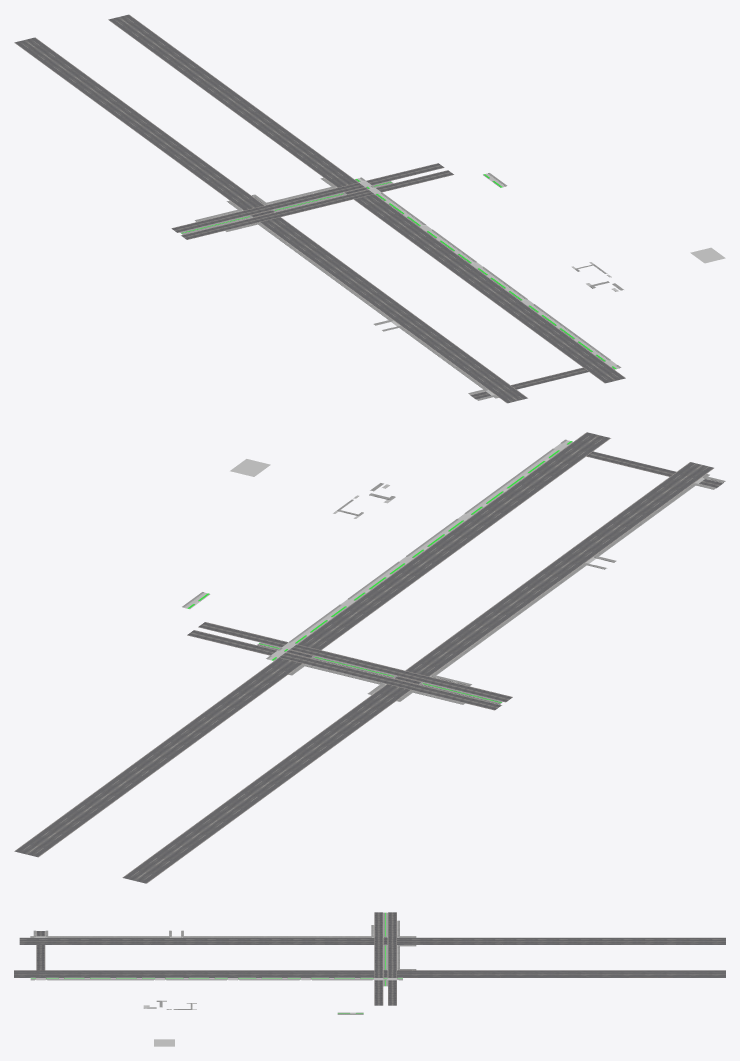
The model's file is ruas.FBX.
3 renders of one model, top to bottom at view 1: azimuth 30°, elevation 25°; view 2: azimuth 150°, elevation 25°; view 3: azimuth 270°, elevation 25°, orthographic. The views are drawn at different scales.
Visible parts, largest first — view 1: Cube.05, Cube.03, Cube.11, Cube.45, Plane.18; view 2: Cube.05, Cube.03, Cube.45, Cube.11, Plane.18; view 3: Cube.05, Cube.03, Cube.11, Cube.45, Plane.18, Cube.07, Cube.12, Cube.04, Cube.13.
Boxes of the visible parts, bbox=[...] form: Cube.05: bbox=[354, 194, 625, 383]; Cube.03: bbox=[260, 217, 527, 403]; Cube.11: bbox=[14, 37, 264, 210]; Cube.45: bbox=[108, 14, 358, 187]; Plane.18: bbox=[379, 195, 621, 369]; Cube.05: bbox=[297, 432, 610, 650]; Cube.03: bbox=[405, 462, 713, 676]; Cube.45: bbox=[14, 658, 302, 857]; Cube.11: bbox=[122, 684, 410, 883]; Plane.18: bbox=[294, 439, 572, 640]; Cube.05: bbox=[14, 970, 374, 977]; Cube.03: bbox=[19, 937, 374, 944]; Cube.11: bbox=[397, 937, 725, 944]; Cube.45: bbox=[397, 970, 725, 977]; Plane.18: bbox=[30, 977, 368, 980]; Cube.07: bbox=[374, 912, 383, 937]; Cube.12: bbox=[374, 980, 383, 1005]; Cube.04: bbox=[374, 945, 383, 970]; Cube.13: bbox=[36, 945, 45, 970].
Bounding box in the file's own units: 10662 × 17.77 × 23828.
